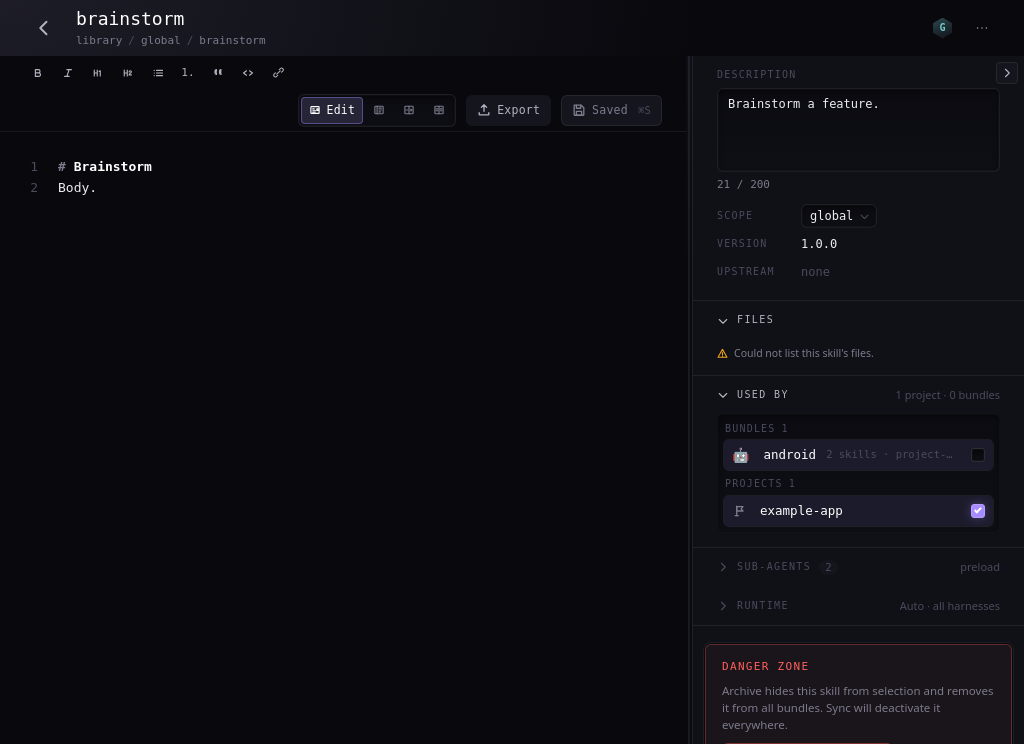
Skill 'Preloaded by' + attach › reflects the reverse skill-usage index
Click the button with test id "side-section-subagents" at (835,567), box [717,548,952,587]
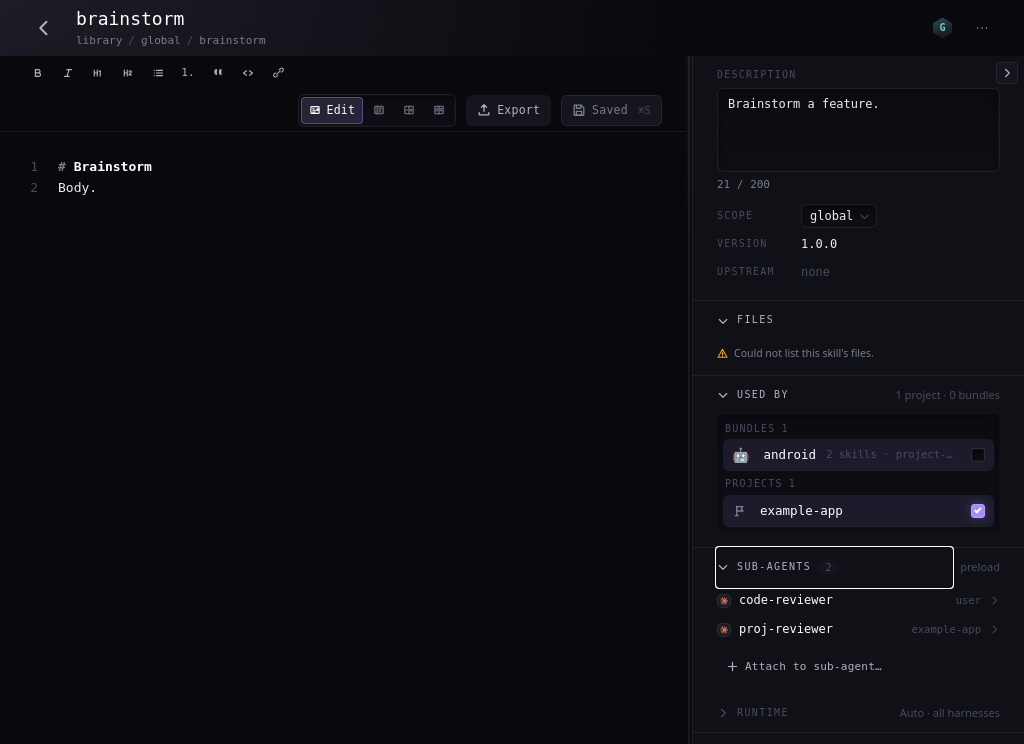
Expected: the text "code-reviewer" is shown, [739,592,833,609]
Expected: the text "proj-reviewer" is shown, [739,621,833,639]
